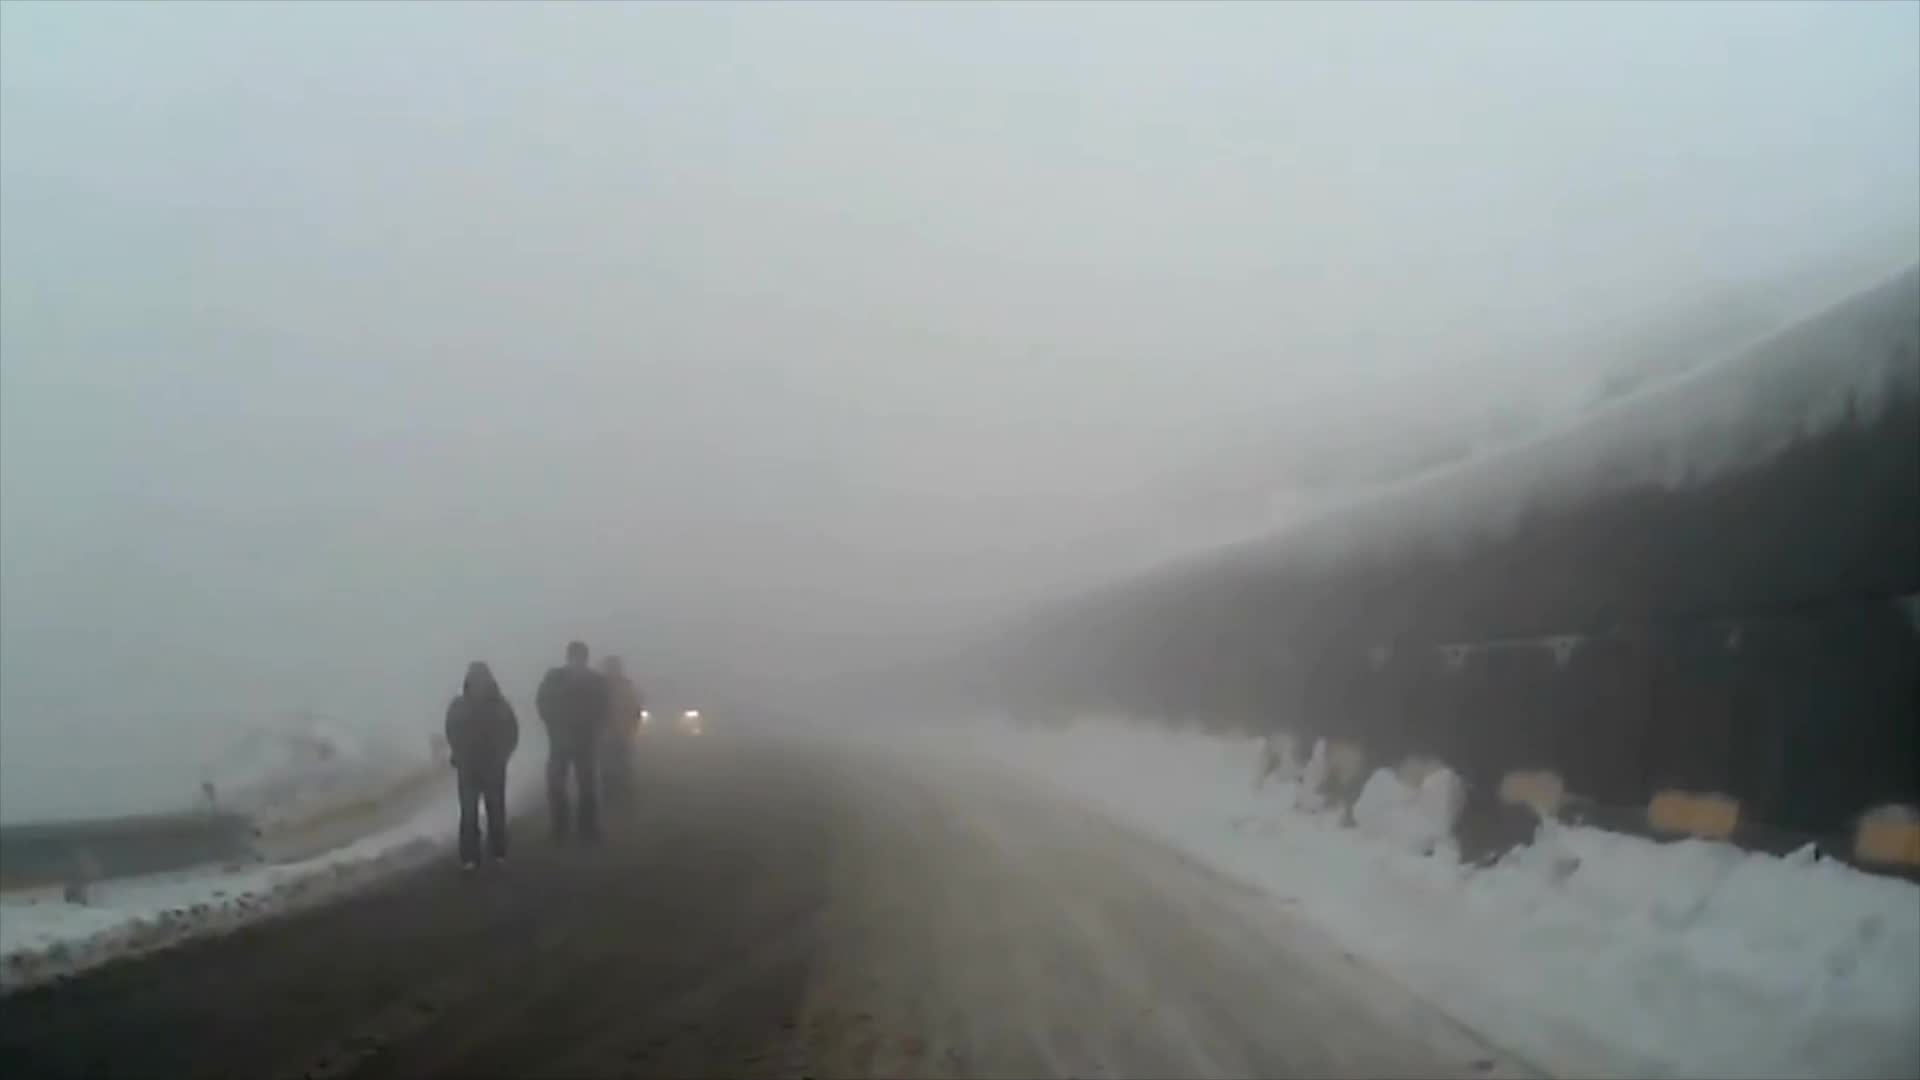pedestrian: (440, 657, 526, 877), (536, 639, 612, 844), (591, 655, 648, 821)
